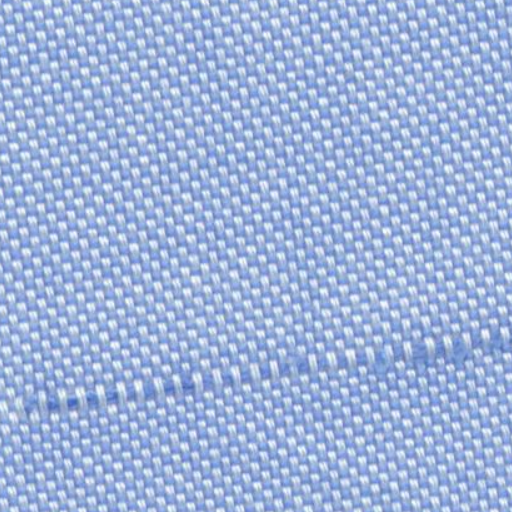DaiSha: (24, 318, 504, 422)
